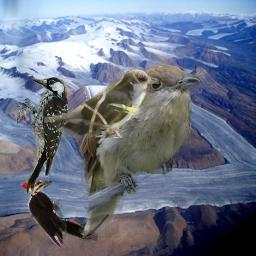Cuckoo: (77, 62, 200, 238), (44, 68, 159, 138)
Woodpecker: (17, 77, 68, 194), (19, 180, 98, 248)
